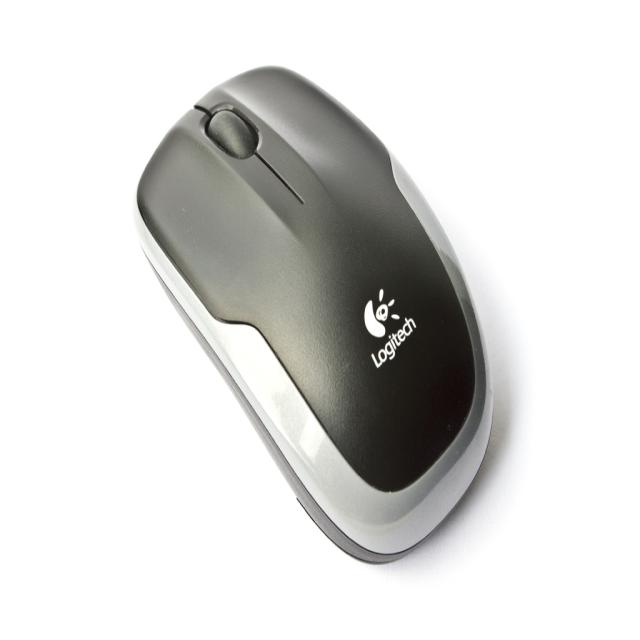Computer-mouse: (136, 60, 494, 561)
